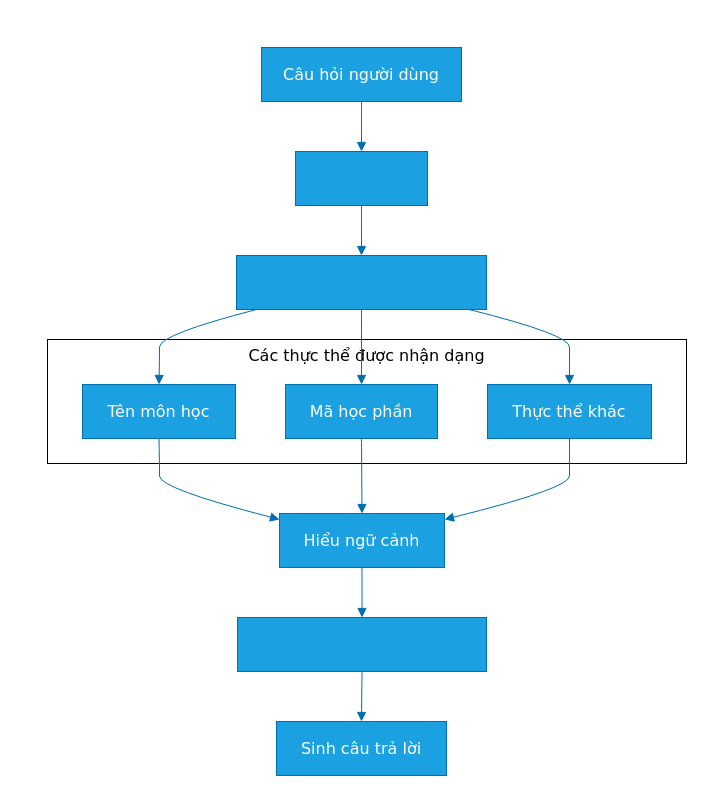
This 704x793 diagram has some shape labels left out. Each missing label, with the centre of its shape:
Nhận dạng thực thể (NER): the point at 361,282
Tiền xử lý: the point at 361,178
Truy vấn CSDL / Vector DB: the point at 361,644
